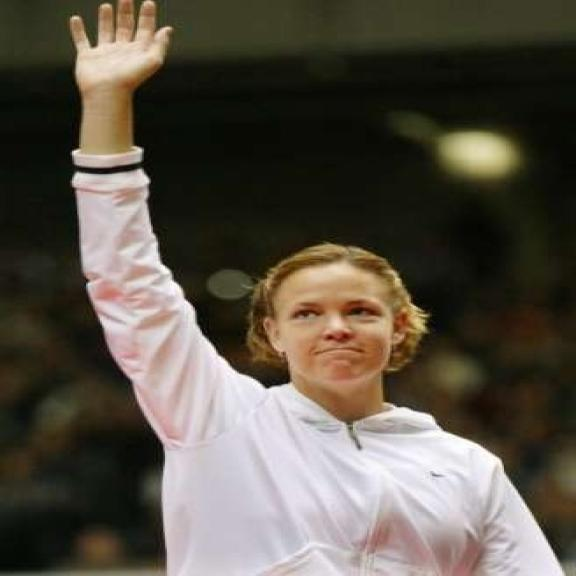face: (252, 246, 412, 389)
